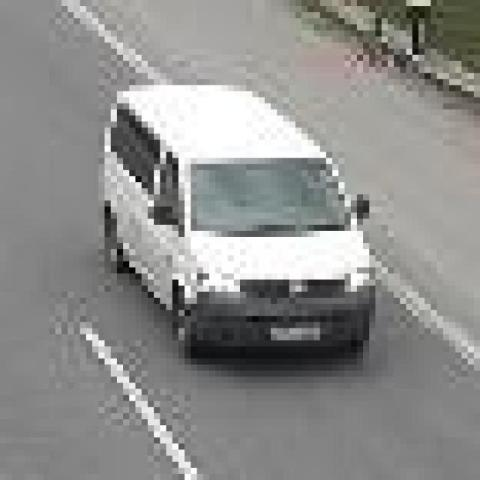van: (108, 85, 379, 358)
